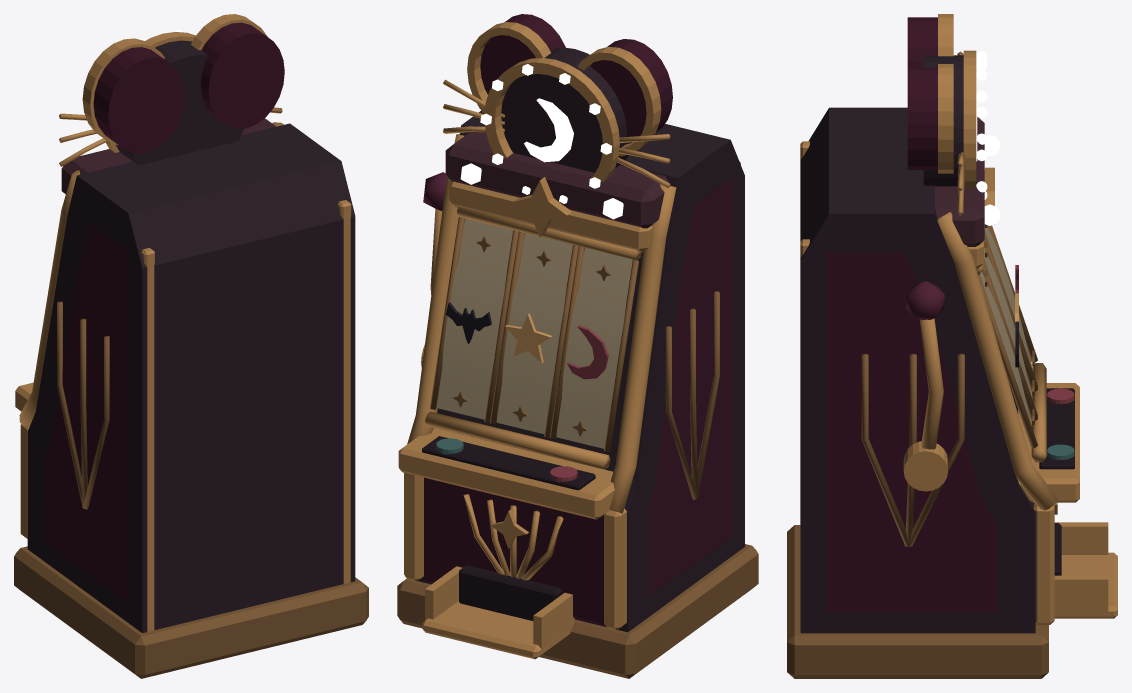
Rendered from slot-cabinet.glb.
3 views of the same model, side by side, from view 1: azimuth 30°, elevation 25°; view 2: azimuth 150°, elevation 25°; view 3: azimuth 270°, elevation 25° (orthographic). The views are drawn at different scales.
Parts seen in each view (by area): view 1: slot-cabinet; view 2: slot-cabinet; view 3: slot-cabinet.
Part boxes in pixels (<box>): slot-cabinet: <box>14,14,368,678</box>; slot-cabinet: <box>397,14,758,678</box>; slot-cabinet: <box>787,14,1117,678</box>.
Bounding box in the file's own units: 1.03 × 2.13 × 1.1.
